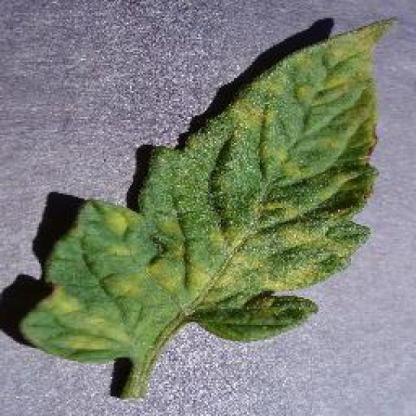Tomato_Leaf_Mold: (23, 16, 380, 363)
